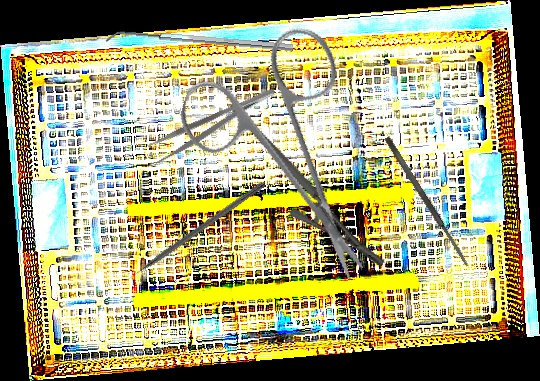Dressing Forceps: (146, 84, 282, 166)
Hook Surgical: (118, 180, 266, 288)
Iris Scissors: (148, 0, 425, 284)
Needle Holder: (229, 73, 388, 298)
Spatula Surgical: (383, 135, 471, 269), (104, 27, 294, 59)
